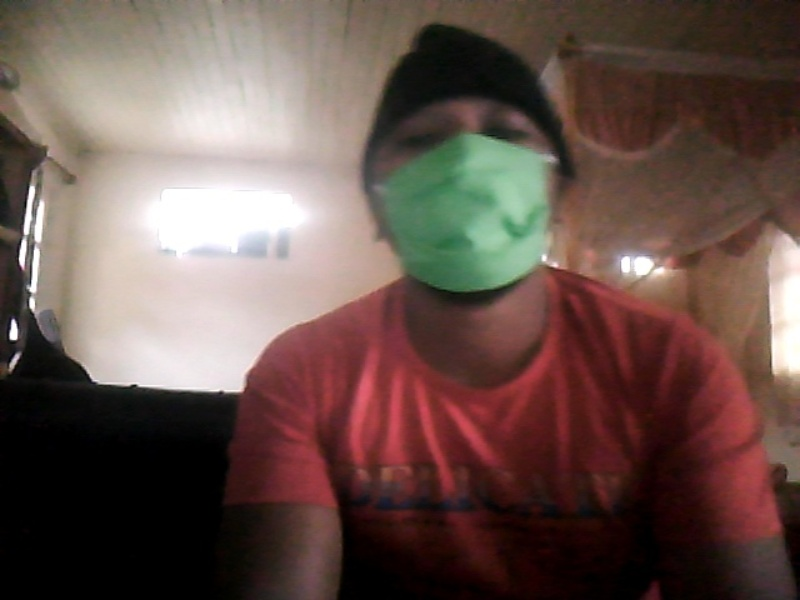ManaoArotava: (349, 19, 605, 313)
